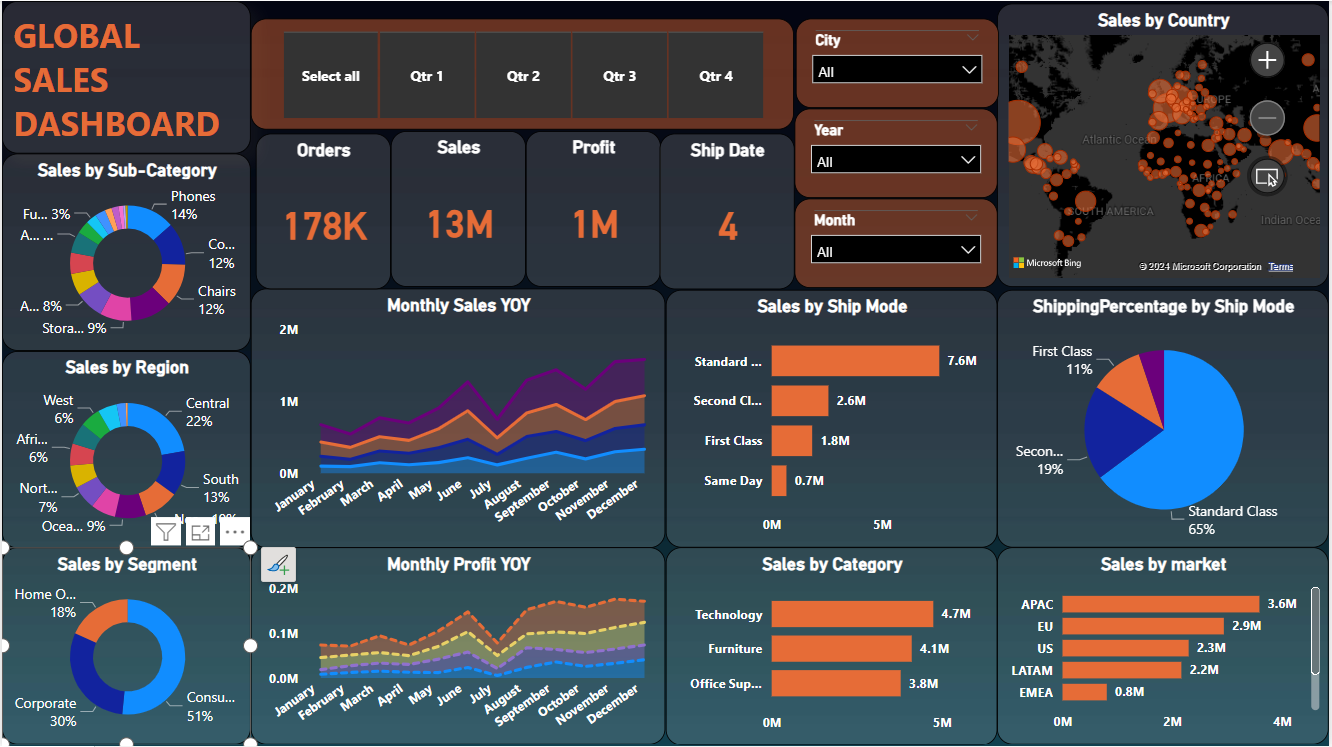

Layout of this report page (visuals, bound fields, positions):
{"tool":"powerbi","page":{"name":"Sales Dashboard","canvas":[1280,720],"ordinal":0},"visuals":[{"type":"textbox","box":[0,0,240,147.1],"z":0},{"type":"clusteredBarChart","title":"Sales by Ship Mode","fields":{"Y":["Sum(Orders.Sales)"],"Category":["Orders.Ship Mode"]},"box":[640,278.6,320,248.6],"z":1000},{"type":"clusteredBarChart","title":"Sales by Category","fields":{"Y":["Sum(Orders.Sales)"],"Category":["Orders.Category"]},"box":[640,527.1,320,191.4],"z":2000},{"type":"clusteredBarChart","title":"Sales by market","fields":{"Y":["Sum(Orders.Sales)"],"Category":["Orders.Market"]},"box":[960,527.1,320,190],"z":3000},{"type":"map","title":"Sales by Country","fields":{"Size":["Sum(Orders.Sales)"],"Category":["Orders.Country"]},"box":[960,2.5,320,273.8],"z":4000},{"type":"stackedAreaChart","title":"Monthly Sales YOY","fields":{"Y":["Sum(Orders.Sales)"],"Category":["Orders.Order Date.Variation.Date Hierarchy.Month"],"Series":["Orders.Order Date.Variation.Date Hierarchy.Year"]},"box":[240,277.1,400,250],"z":5000},{"type":"stackedAreaChart","title":"Monthly Profit YOY","fields":{"Y":["Sum(Orders.Profit)"],"Category":["Orders.Order Date.Variation.Date Hierarchy.Month"],"Series":["Orders.Order Date.Variation.Date Hierarchy.Year"]},"box":[240,527.1,400,190],"z":6000},{"type":"donutChart","title":"Sales by Sub-Category","fields":{"Category":["Orders.Sub-Category"],"Y":["Sum(Orders.Sales)"]},"box":[0,147.1,240,190],"z":7000},{"type":"donutChart","title":"Sales by Region","fields":{"Y":["Sum(Orders.Sales)"],"Category":["Orders.Region"]},"box":[0,337.1,240,190],"z":8000},{"type":"donutChart","title":"Sales by Segment","fields":{"Y":["Sum(Orders.Sales)"],"Category":["Orders.Segment"]},"box":[0,527.1,240,190],"z":9000},{"type":"card","title":"Orders","fields":{"Values":["Sum(Orders.Quantity)"]},"box":[244.3,128.6,130,150],"z":10000,"group":"g1"},{"type":"slicer","fields":{"Values":["Orders.City"]},"box":[765.7,17.1,195.7,86],"z":10000},{"type":"card","title":"Sales","fields":{"Values":["Sum(Orders.Sales)"]},"box":[374.3,125.7,130,150],"z":11000,"group":"g1"},{"type":"slicer","fields":{"Values":["Orders.Order Date.Variation.Date Hierarchy.Year"]},"box":[764.3,104.3,195.7,86],"z":11000},{"type":"card","title":"Profit","fields":{"Values":["Sum(Orders.Profit)"]},"box":[504.3,125.7,130,150],"z":12000,"group":"g1"},{"type":"slicer","fields":{"Values":["Orders.Order Date.Variation.Date Hierarchy.Month"]},"box":[764.3,190,195.7,86],"z":12000},{"type":"card","title":"Ship Date","fields":{"Values":["Avg(Orders.Average Delivery Days)"]},"box":[634.3,128.6,130,150],"z":13000,"group":"g1"},{"type":"group","id":"g1","title":"Group 1","box":[244.3,125.7,520,152.9],"z":13000},{"type":"slicer","fields":{"Values":["Orders.Order Date.Variation.Date Hierarchy.Quarter"]},"box":[240,17.1,524.3,107.1],"z":14000},{"type":"pieChart","title":"ShippingPercentage by Ship Mode","fields":{"Y":["Sum(Orders.ShippingPercentage)"],"Category":["Orders.Ship Mode"]},"box":[960,278.8,320,248.8],"z":15000}]}

Visuals, with their boxes in screenshot pixels (x1, y1, x2, y2), scaled from the page's 1280x720 canvas onto the 1332x747 screenshot:
textbox: x1=0 y1=0 x2=250 y2=153
"Sales by Ship Mode" clusteredBarChart: x1=666 y1=289 x2=999 y2=547
"Sales by Category" clusteredBarChart: x1=666 y1=547 x2=999 y2=745
"Sales by market" clusteredBarChart: x1=999 y1=547 x2=1331 y2=744
"Sales by Country" map: x1=999 y1=3 x2=1331 y2=287
"Monthly Sales YOY" stackedAreaChart: x1=250 y1=287 x2=666 y2=547
"Monthly Profit YOY" stackedAreaChart: x1=250 y1=547 x2=666 y2=744
"Sales by Sub-Category" donutChart: x1=0 y1=153 x2=250 y2=350
"Sales by Region" donutChart: x1=0 y1=350 x2=250 y2=547
"Sales by Segment" donutChart: x1=0 y1=547 x2=250 y2=744
"Orders" card: x1=254 y1=133 x2=390 y2=289
slicer - Orders.City: x1=797 y1=18 x2=1000 y2=107
"Sales" card: x1=390 y1=130 x2=525 y2=286
slicer - Orders.Order Date.Variation.Date Hierarchy.Year: x1=795 y1=108 x2=999 y2=197
"Profit" card: x1=525 y1=130 x2=660 y2=286
slicer - Orders.Order Date.Variation.Date Hierarchy.Month: x1=795 y1=197 x2=999 y2=286
"Ship Date" card: x1=660 y1=133 x2=795 y2=289
"Group 1" group: x1=254 y1=130 x2=795 y2=289
slicer - Orders.Order Date.Variation.Date Hierarchy.Quarter: x1=250 y1=18 x2=795 y2=129
"ShippingPercentage by Ship Mode" pieChart: x1=999 y1=289 x2=1331 y2=547
